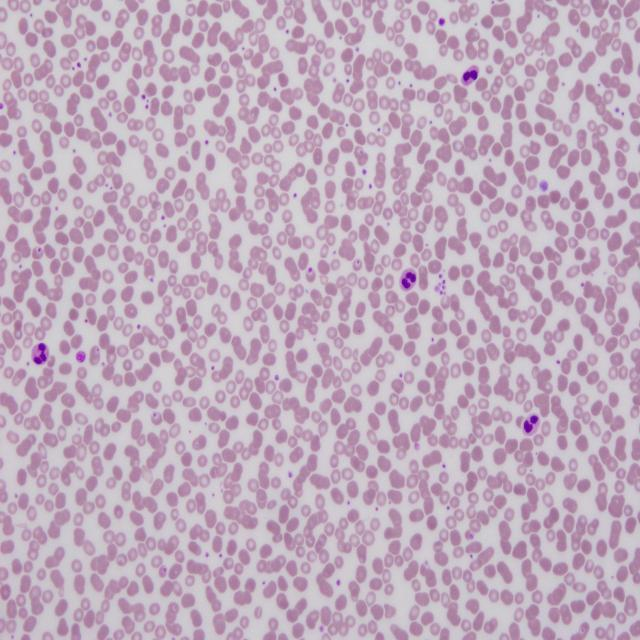cell: (31, 343, 49, 365)
